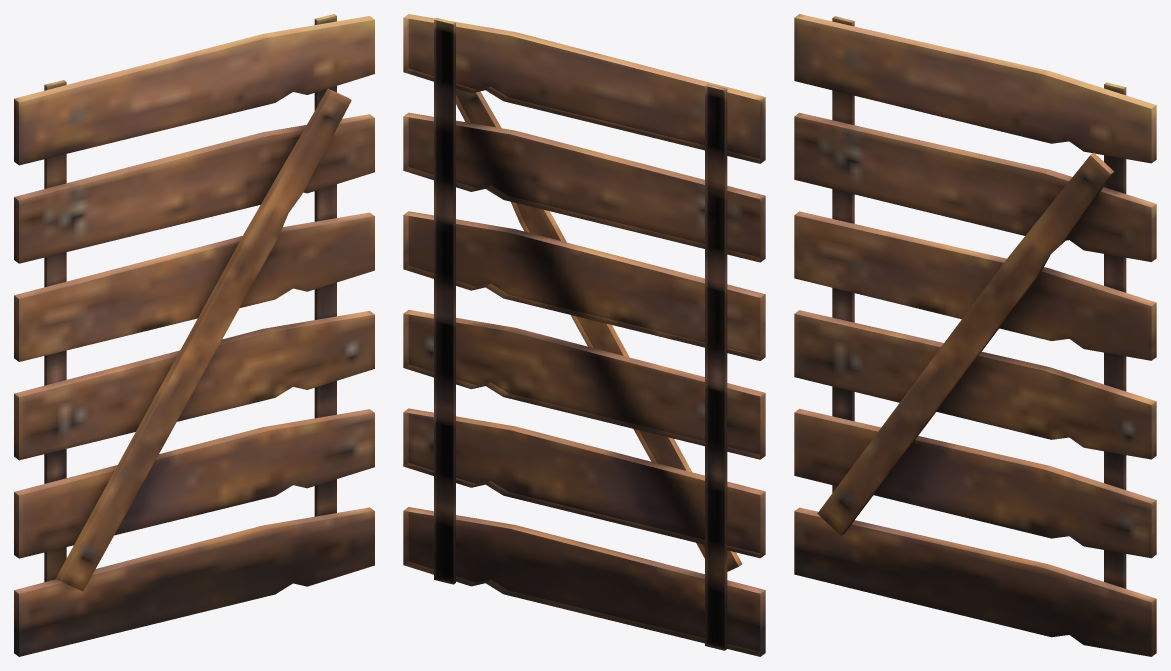
The model's file is DR_BoardedWindow23.fbx.
3 views of the same model, side by side, from view 1: azimuth 30°, elevation 25°; view 2: azimuth 150°, elevation 25°; view 3: azimuth 330°, elevation 25° (orthographic).
Parts seen in each view (by area): view 1: DR_BoardedWindow23; view 2: DR_BoardedWindow23; view 3: DR_BoardedWindow23.
Part boxes in pixels (x1,y1,x2,y2): DR_BoardedWindow23: (14, 14, 374, 656); DR_BoardedWindow23: (403, 14, 765, 656); DR_BoardedWindow23: (794, 14, 1156, 656).
Size of the model in its own units: 2 by 0.16 by 3.
1 material, 1 textured.
